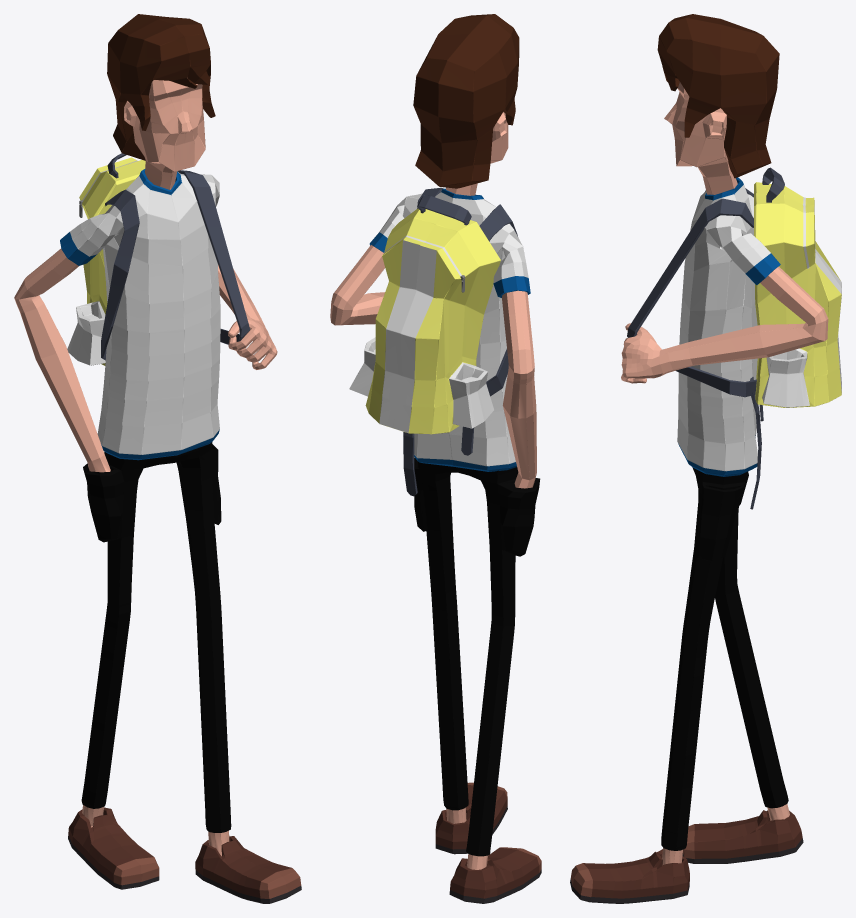
The model's file is 1_курс.fbx.
The picture shows the model from 3 angles, left to right: view 1: azimuth 30°, elevation 25°; view 2: azimuth 150°, elevation 25°; view 3: azimuth 270°, elevation 25°; orthographic projection.
Visible parts, largest first — view 1: Renzo; view 2: Renzo; view 3: Renzo.
Part boxes in pixels (bbox=[...]): Renzo: bbox=[14, 14, 301, 903]; Renzo: bbox=[330, 14, 541, 903]; Renzo: bbox=[570, 14, 841, 903].
Bounding box in the file's own units: 40.94 × 171 × 49.19.
